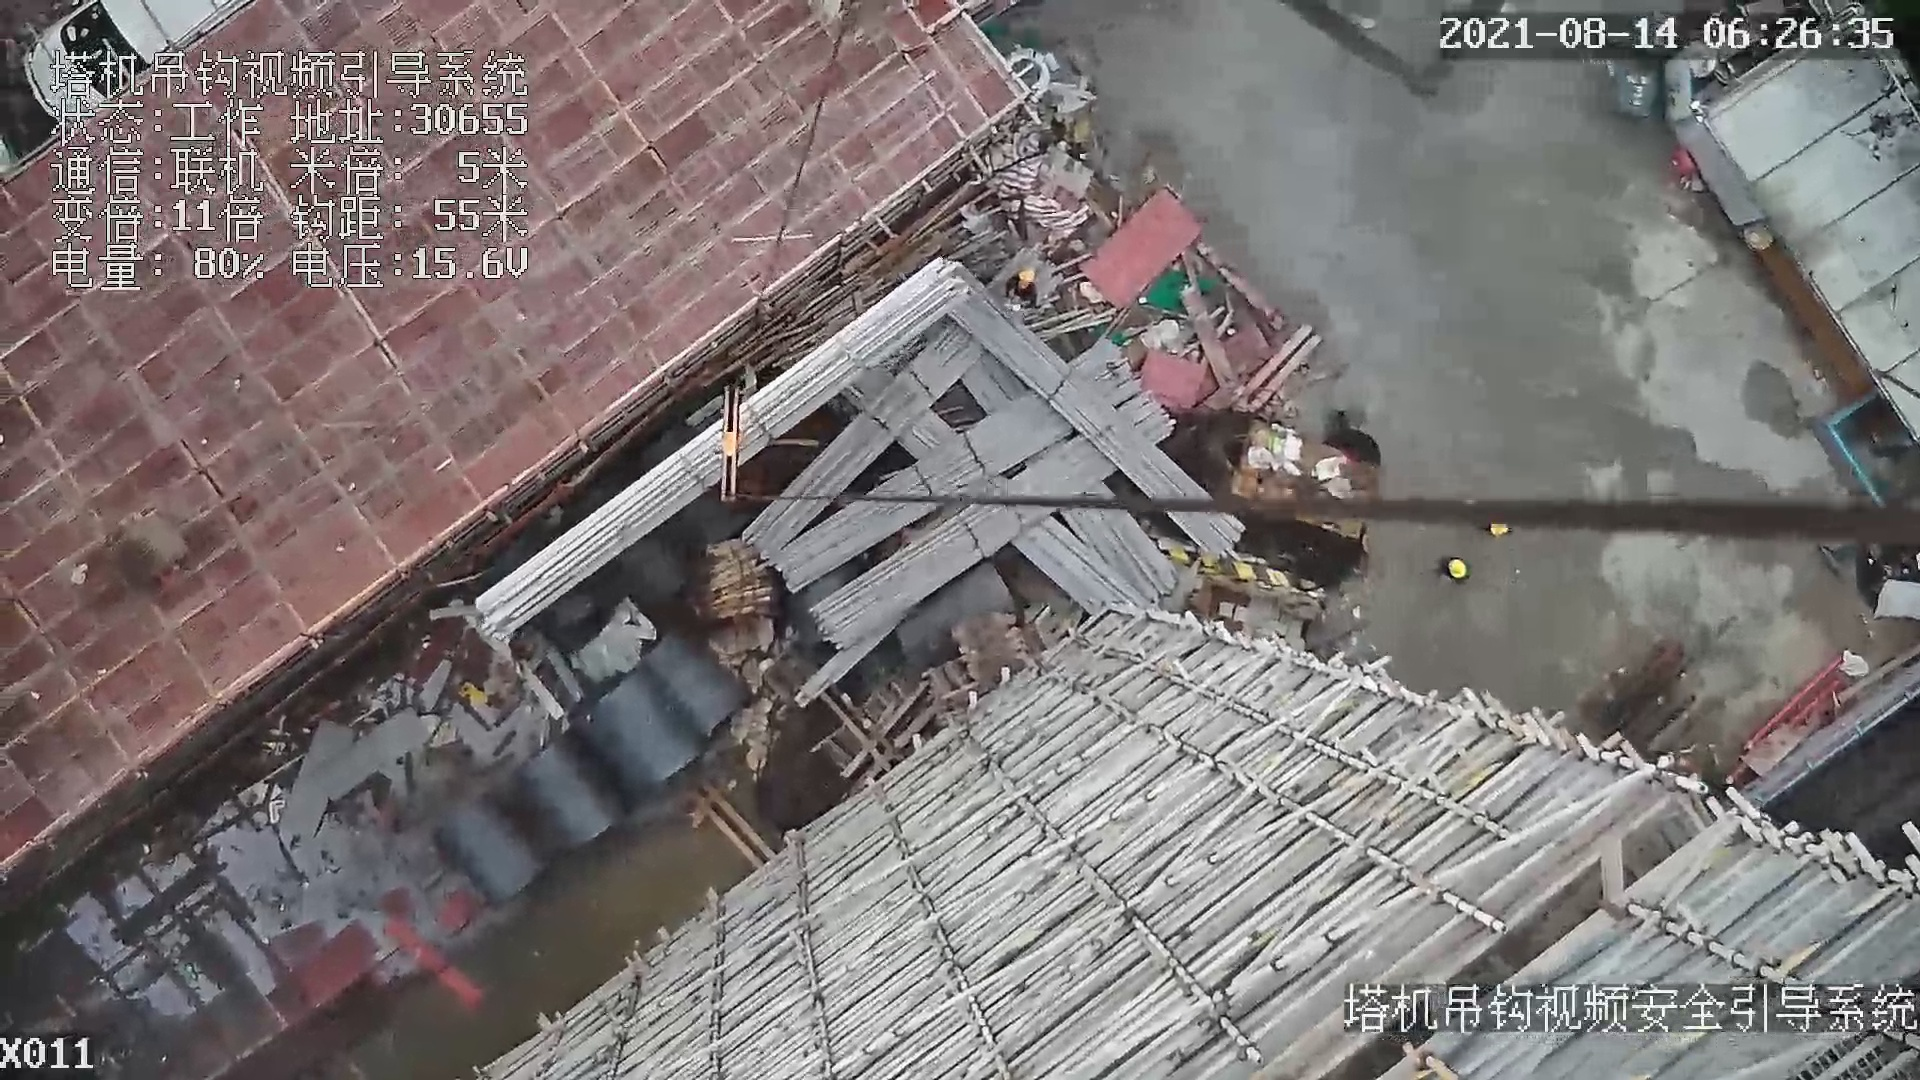helmet: (1449, 555, 1464, 579), (1018, 265, 1034, 281)
hook: (715, 382, 760, 508)
person: (1010, 271, 1041, 319), (1444, 555, 1482, 589)
